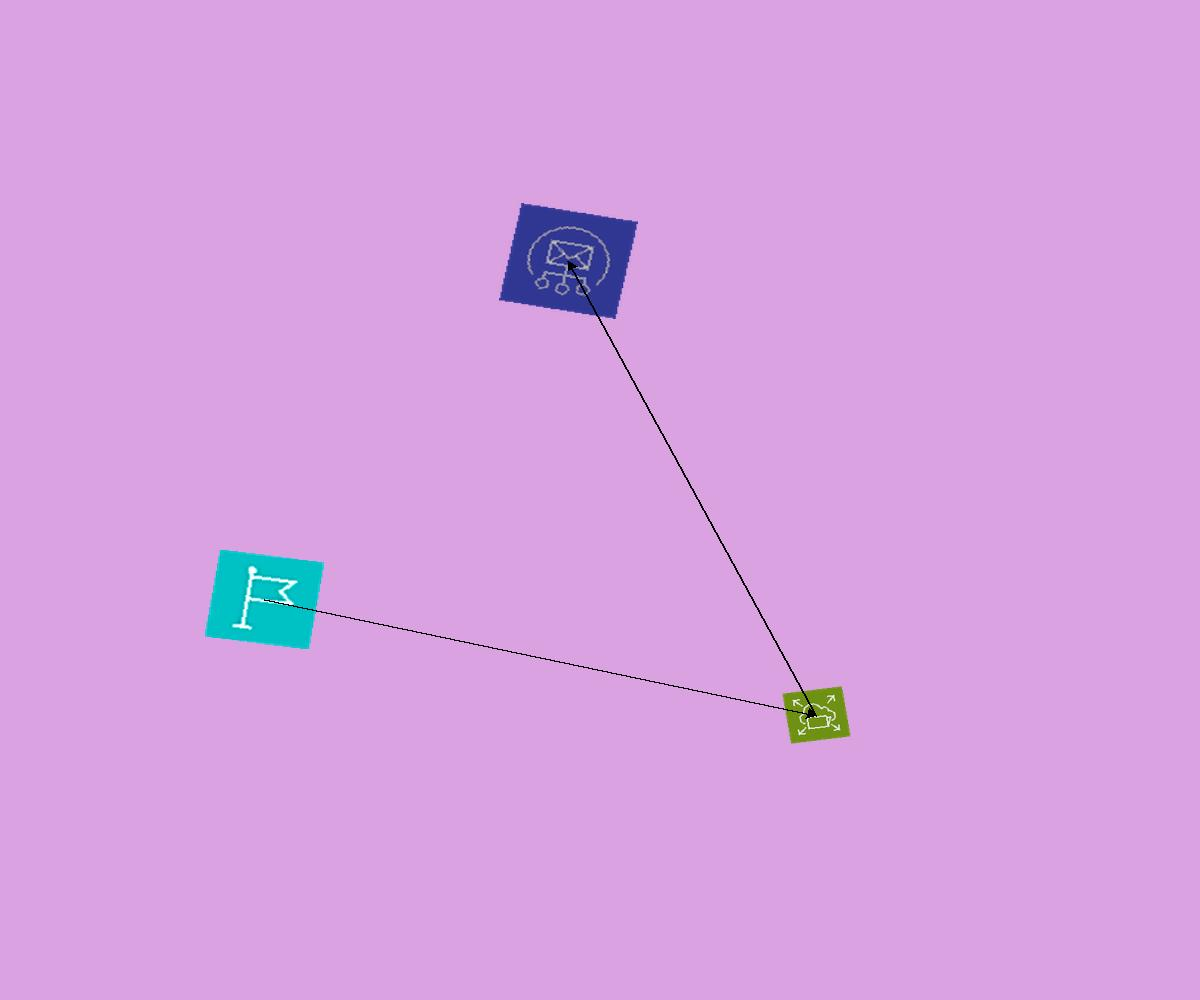AWS-EFS: (782, 686, 851, 744)
AWS-Region: (204, 549, 325, 650)
AWS-Simple-Email-Service: (499, 203, 638, 319)
